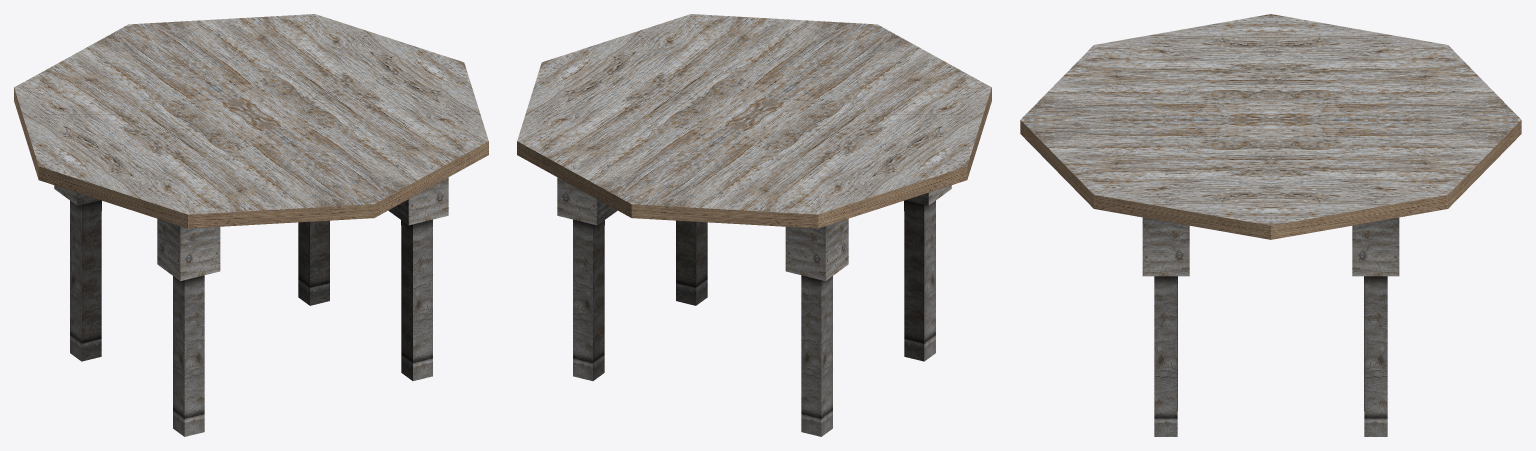
The model's file is mm9_deco_tableroundplain.glb.
3 views of the same model, side by side, from view 1: azimuth 30°, elevation 25°; view 2: azimuth 150°, elevation 25°; view 3: azimuth 270°, elevation 25° (orthographic).
Parts seen in each view (by area): view 1: Tableroundplain; view 2: Tableroundplain; view 3: Tableroundplain.
Part boxes in pixels (<box>): Tableroundplain: <box>14,14,488,436</box>; Tableroundplain: <box>517,14,991,436</box>; Tableroundplain: <box>1020,14,1521,436</box>.
Size of the model in its own units: 2.01 by 1.13 by 2.01.
Materials: 2 (2 with a texture image).
